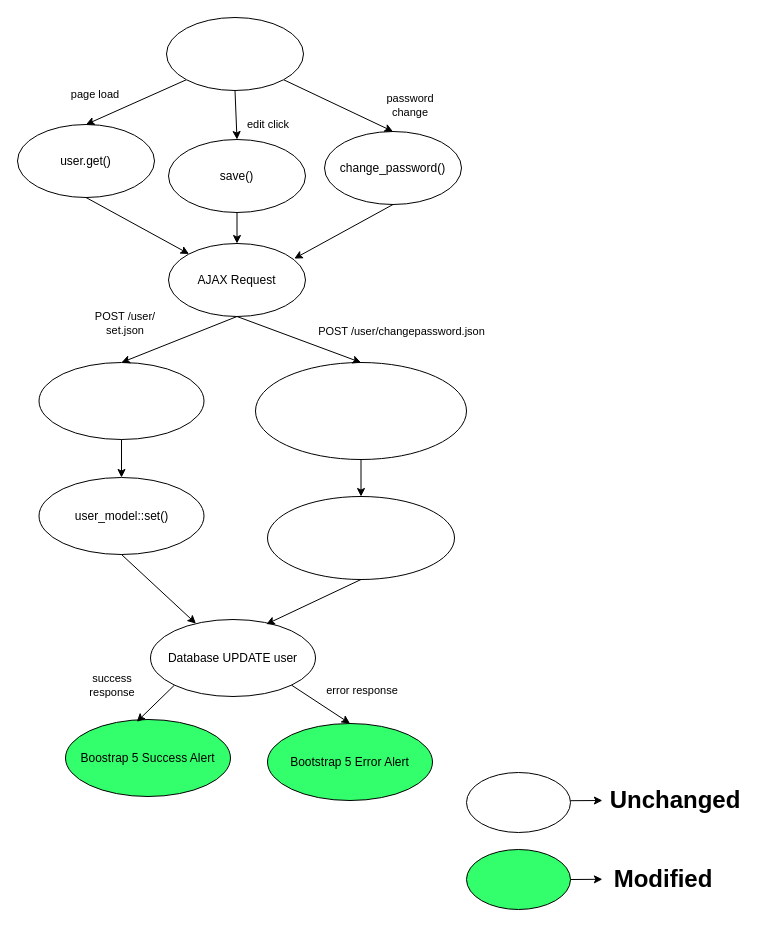
Image size: 758x927. Some labels were removed from this diagram. Here are the shapes that lost their labels. From the top down, the centre of each, then its label:
At [235,53]: "Profile Page".
At [121,401]: "user_controller::set()".
At [360,411]: "user_controller::change_password()".
At [360,538]: "user_model::change_password()".
